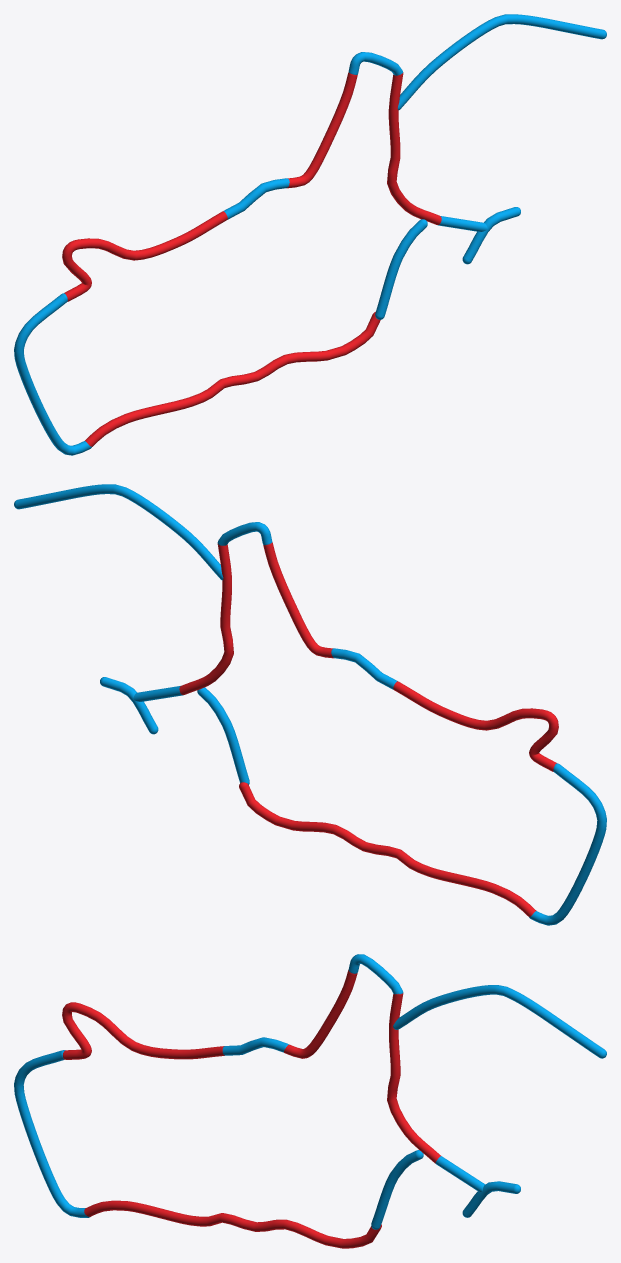
The model's file is Mapa.fbx.
3 renders of one model, top to bottom at view 1: azimuth 30°, elevation 25°; view 2: azimuth 150°, elevation 25°; view 3: azimuth 330°, elevation 25°, orthographic.
Visible parts, largest first — view 1: node_id26 (×10); view 2: node_id26 (×10); view 3: node_id26 (×11).
Boxes of the visible parts, left/top/right/bottom form: node_id26 (×10): left=14, top=14, right=606, bottom=455; node_id26 (×10): left=14, top=484, right=606, bottom=925; node_id26 (×11): left=14, top=954, right=606, bottom=1248.
Size of the model in its own units: 1.23 by 0.6644 by 0.0248.
